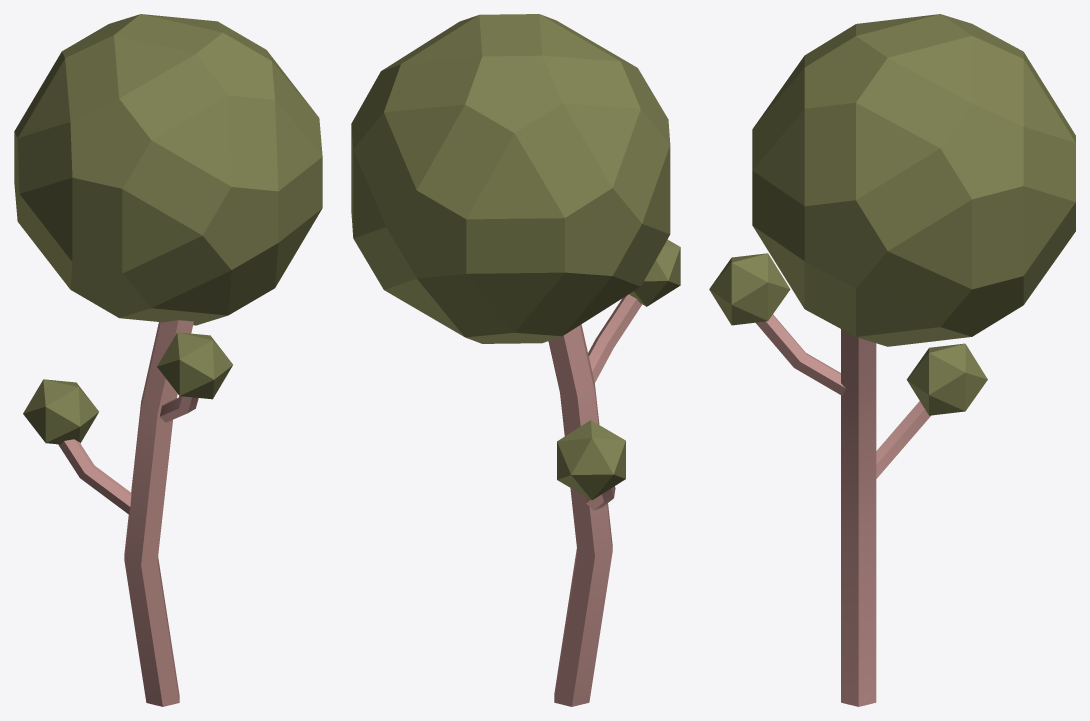
Rendered from tree_1_v1.fbx.
3 renders of one model, left to right at view 1: azimuth 30°, elevation 25°; view 2: azimuth 150°, elevation 25°; view 3: azimuth 270°, elevation 25°, orthographic. The views are drawn at different scales.
Visible parts, largest first — view 1: large_leaves, trunk, small_leaves_1, small_leaves_2, branch_2, branch_1; view 2: large_leaves, trunk, small_leaves_2, small_leaves_1, branch_1; view 3: large_leaves, trunk, small_leaves_1, small_leaves_2, branch_1, branch_2.
Boxes of the visible parts, bbox=[...] form: large_leaves: bbox=[14, 14, 322, 325]; trunk: bbox=[124, 320, 193, 706]; small_leaves_1: bbox=[157, 332, 232, 399]; small_leaves_2: bbox=[23, 379, 98, 444]; branch_2: bbox=[58, 439, 131, 514]; branch_1: bbox=[159, 396, 198, 422]; large_leaves: bbox=[351, 14, 670, 343]; trunk: bbox=[548, 324, 612, 706]; small_leaves_2: bbox=[557, 420, 625, 500]; small_leaves_1: bbox=[629, 239, 680, 306]; branch_1: bbox=[588, 294, 642, 382]; large_leaves: bbox=[752, 14, 1075, 346]; trunk: bbox=[841, 329, 876, 706]; small_leaves_1: bbox=[709, 253, 790, 325]; small_leaves_2: bbox=[906, 343, 987, 415]; branch_1: bbox=[756, 314, 845, 395]; branch_2: bbox=[876, 401, 930, 478].
Bounding box in the file's own units: 4.12 × 9.2 × 4.5.
